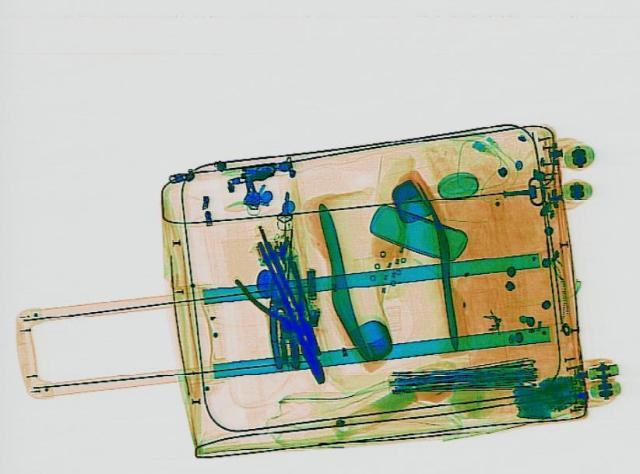Pliers: (231, 258, 353, 363)
